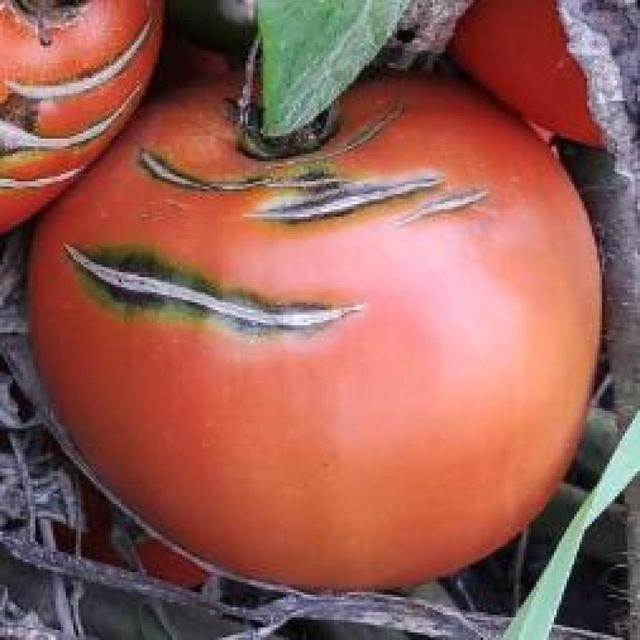Cracking Fruit: (31, 17, 296, 192)
